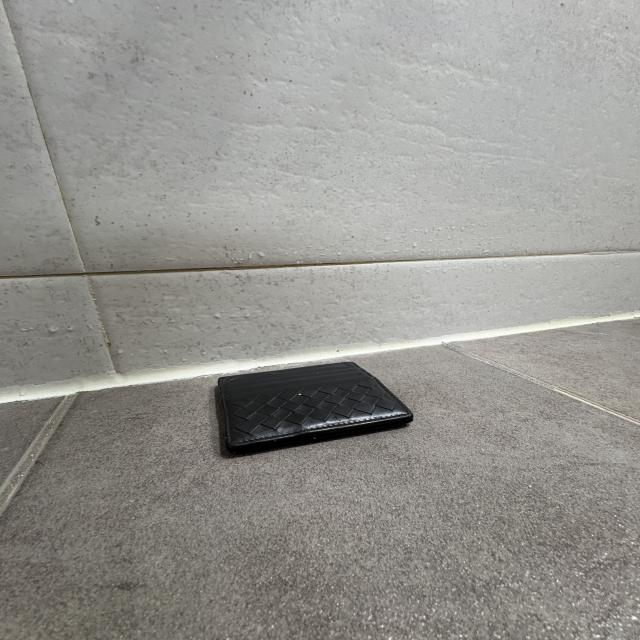wallet: (214, 360, 417, 462)
